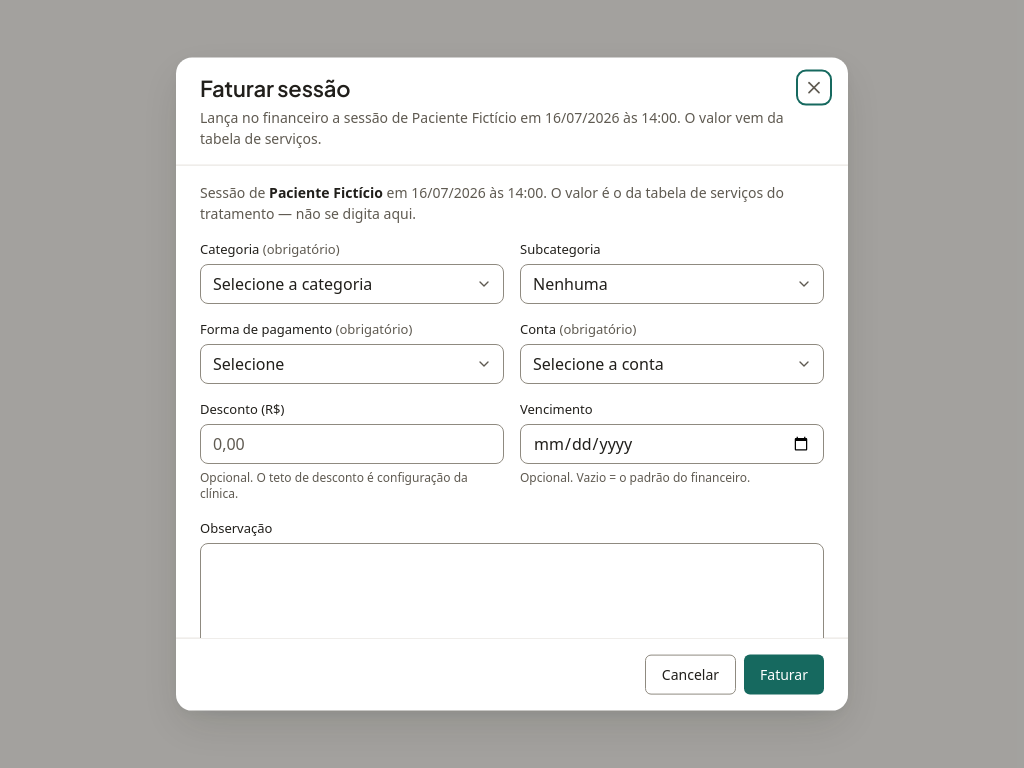
Test case: DialogoFaturarSessao — faturar a sessão pela agenda › deve enviar o faturamento sem valor e anunciar o valor lançado com atalho para o financeiro
The image size is (1024, 768).
Select "Atendimentos" in the dropdown labelled "Categoria (obrigatório)" at [352, 283], box [200, 263, 504, 303]
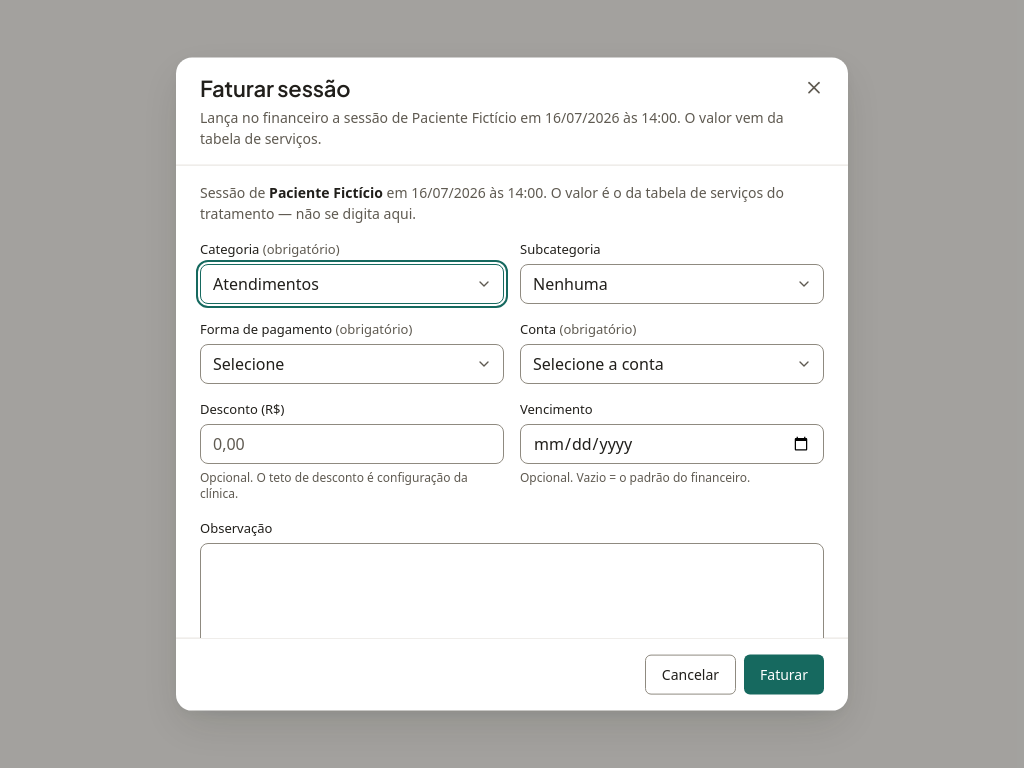
Select "Pix" in the dropdown labelled "Forma de pagamento (obrigatório)" at [352, 364], box [200, 344, 504, 384]
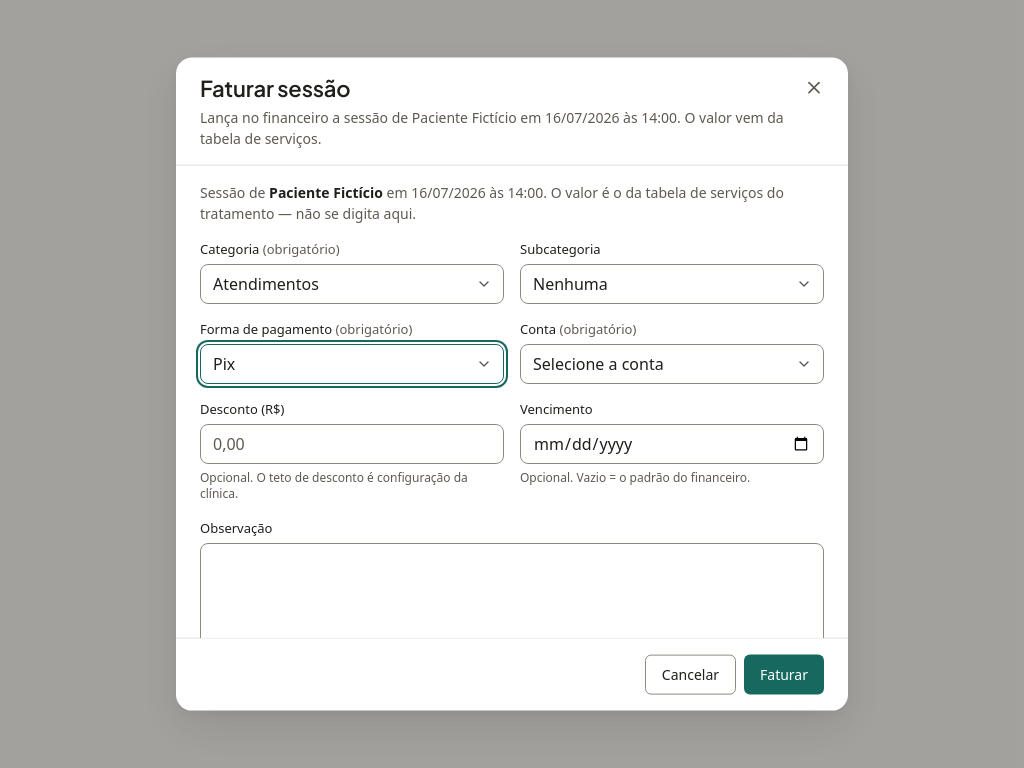
Select "Caixa da recepção" in the dropdown labelled "Conta (obrigatório)" at [672, 364], box [520, 344, 824, 384]
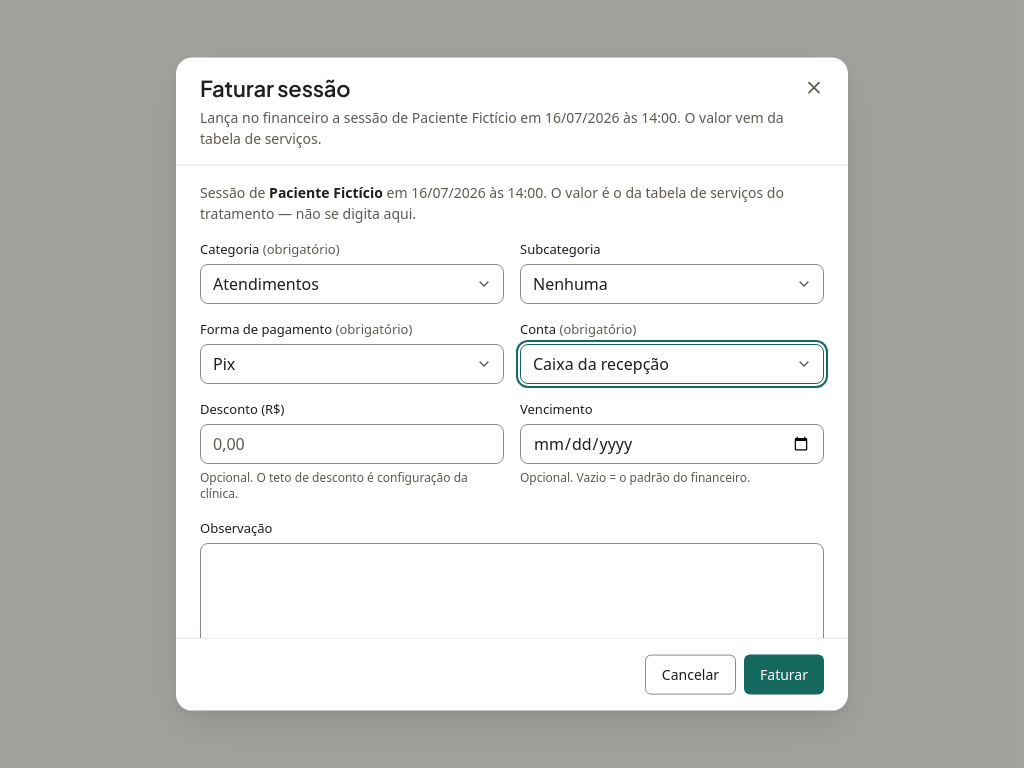
Click the button "Faturar".
click(784, 674)  # box [744, 654, 824, 694]
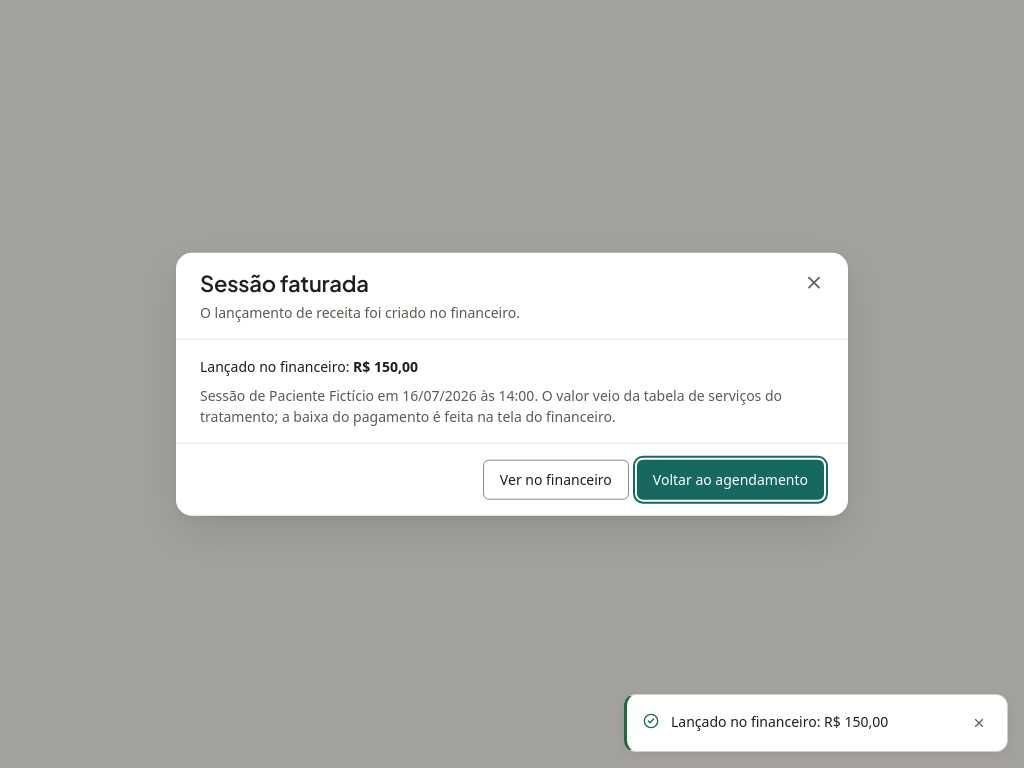
Check: the text "Lançado no financeiro: R$ 150,00" below "Sessão faturada" is shown, box [353, 356, 418, 375]
